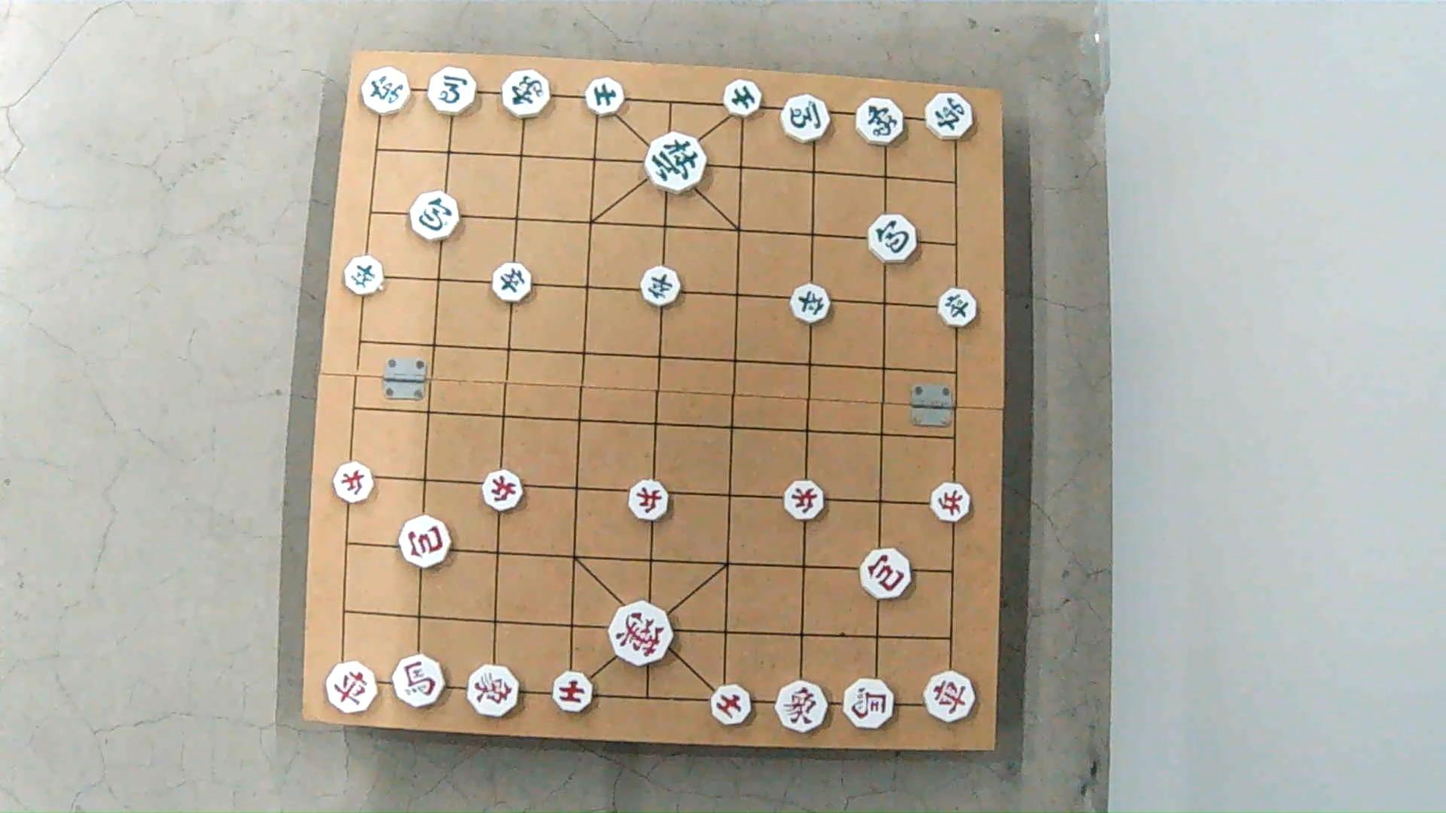cha_green: (362, 67, 410, 116), (926, 95, 976, 140)
cha_red: (327, 662, 380, 717), (924, 669, 977, 722)
jol_green: (490, 263, 531, 302), (791, 285, 831, 324), (639, 266, 680, 304), (341, 257, 383, 294), (938, 291, 978, 327)
jol_red: (480, 472, 522, 511), (331, 466, 373, 504), (628, 482, 670, 520), (932, 484, 973, 522), (785, 482, 826, 519)
ma_green: (779, 93, 832, 142), (425, 69, 476, 114)
ma_red: (392, 655, 444, 711), (845, 680, 898, 729)
po_green: (409, 190, 459, 242), (868, 215, 920, 260)
po_red: (398, 518, 450, 568), (859, 550, 912, 598)
sa_green: (587, 78, 630, 114), (720, 81, 761, 117)
sa_red: (711, 684, 755, 726), (551, 672, 593, 711)
sang_green: (497, 72, 551, 117), (858, 98, 905, 145)
sang_red: (465, 663, 522, 716), (776, 680, 828, 730)
wang_green: (645, 132, 706, 188)
wang_red: (612, 604, 675, 663)
